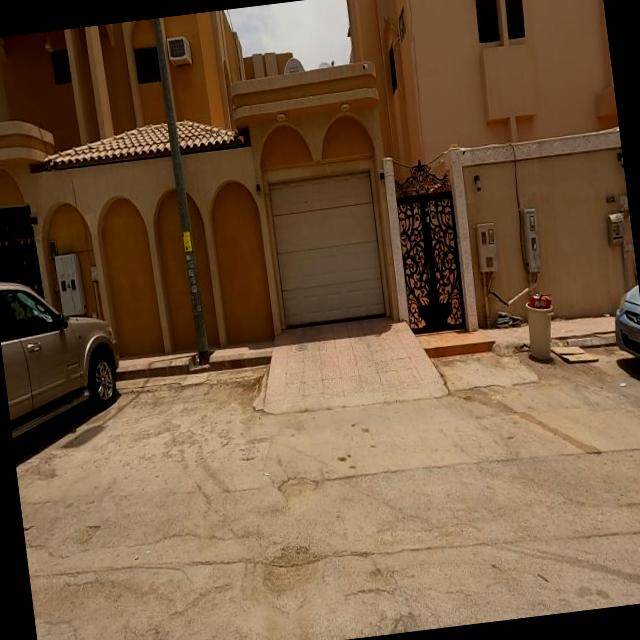debris: (530, 301, 612, 414), (494, 250, 580, 346), (472, 273, 534, 363)
